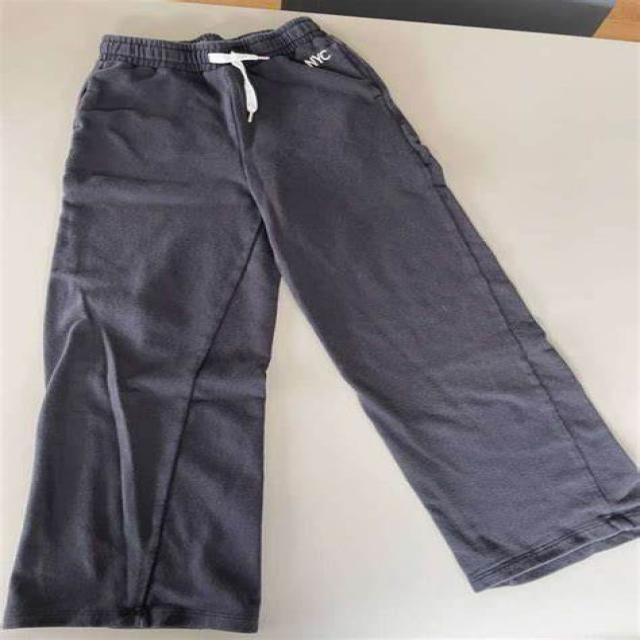long-pants: (0, 13, 640, 635)
